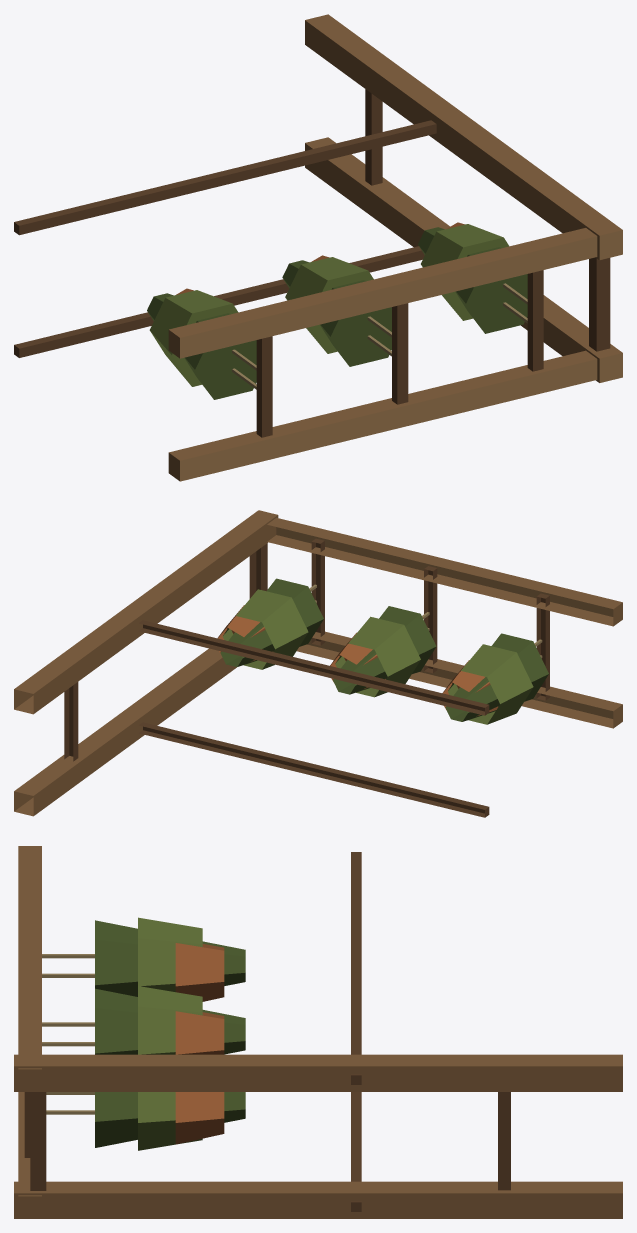
File: b_drying_rack_xn.obj
3 renders of one model, top to bottom at view 1: azimuth 30°, elevation 25°; view 2: azimuth 150°, elevation 25°; view 3: azimuth 270°, elevation 25°, orthographic. The views are drawn at different scales.
Size of the model in its own units: 0.98 by 0.312 by 1.13.
1 material, 1 textured.
